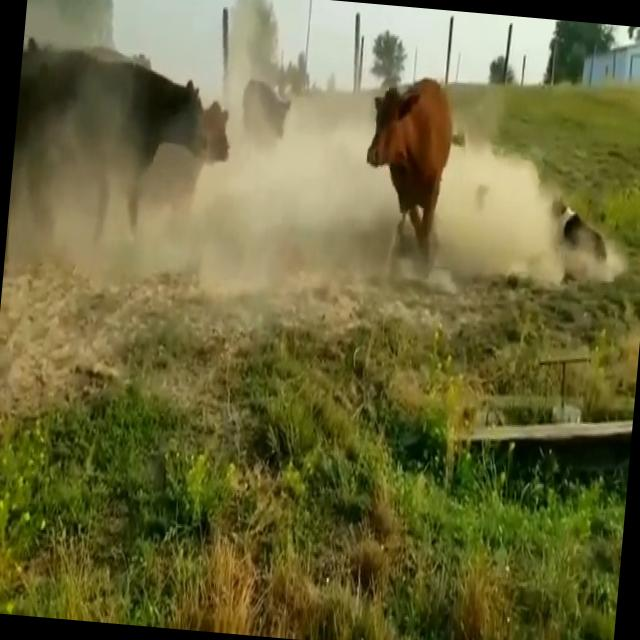cow: (367, 77, 452, 245)
